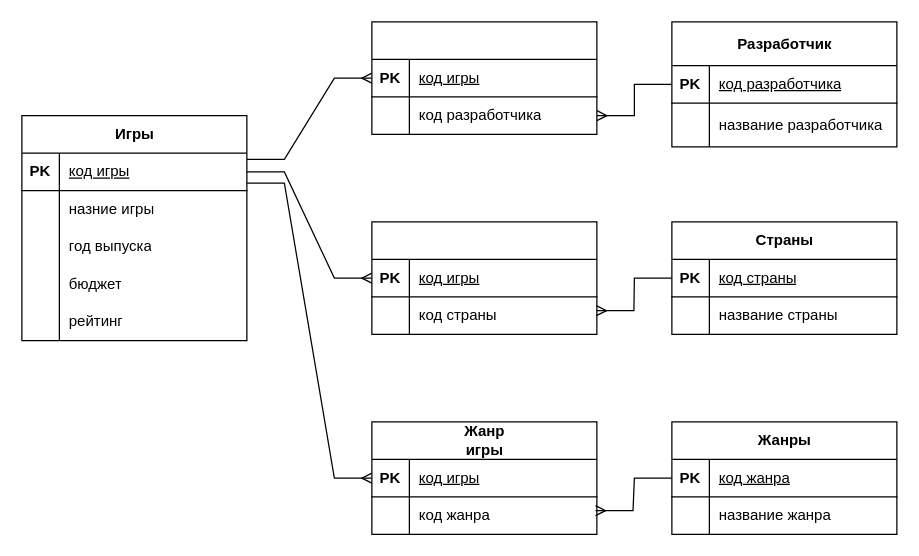
Some shapes in this 919 by 556 pixel diagram are drawn without their labels. Here are the shapes that lost their labels. From the top down, the box of each, then its label:
(371, 21, 597, 134): Разработчик игры
(371, 221, 597, 334): Страны игры
